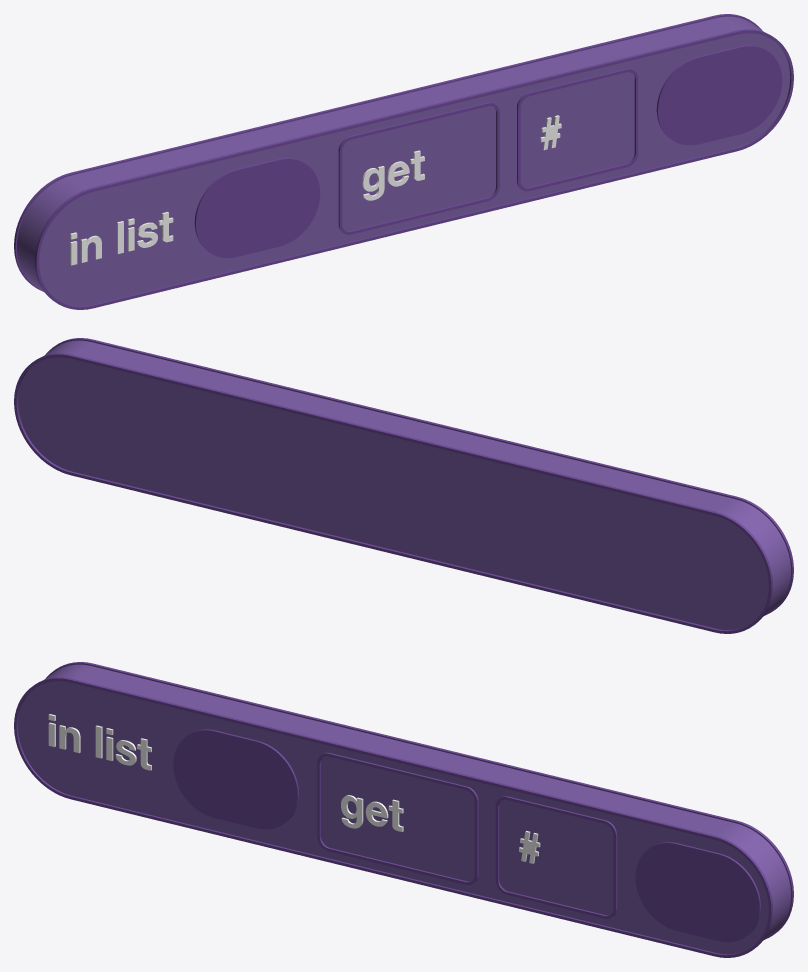
Rendered from lists_getIndex.gltf.
3 views of the same model, one above another, from view 1: azimuth 30°, elevation 25°; view 2: azimuth 150°, elevation 25°; view 3: azimuth 330°, elevation 25° (orthographic).
Visible parts, largest first — view 1: Extrude.17, Extrude, Extrude.1, Extrude.16, Extrude.4, Extrude.8, Extrude.3, Extrude.7; view 2: Extrude.17, Extrude.4, Extrude.16; view 3: Extrude.17, Extrude, Extrude.1, Extrude.16, Extrude.4, Extrude.8, Extrude.3, Extrude.7.
Boxes of the visible parts, x1,y1,x2,y2 form: Extrude.17: [17, 16, 790, 306]; Extrude: [656, 45, 782, 145]; Extrude.1: [194, 158, 320, 258]; Extrude.16: [35, 29, 793, 309]; Extrude.4: [14, 14, 761, 291]; Extrude.8: [338, 102, 499, 234]; Extrude.3: [517, 68, 638, 191]; Extrude.7: [362, 166, 384, 200]; Extrude.17: [18, 340, 790, 629]; Extrude.4: [14, 353, 772, 633]; Extrude.16: [46, 338, 793, 615]; Extrude.17: [17, 664, 790, 954]; Extrude: [635, 842, 760, 942]; Extrude.1: [173, 729, 298, 829]; Extrude.16: [14, 677, 772, 957]; Extrude.4: [46, 662, 793, 939]; Extrude.8: [317, 752, 478, 885]; Extrude.3: [495, 796, 617, 918]; Extrude.7: [341, 795, 363, 828].
Bounding box in the file's own units: 1.32 × 0.1987 × 0.0679.
